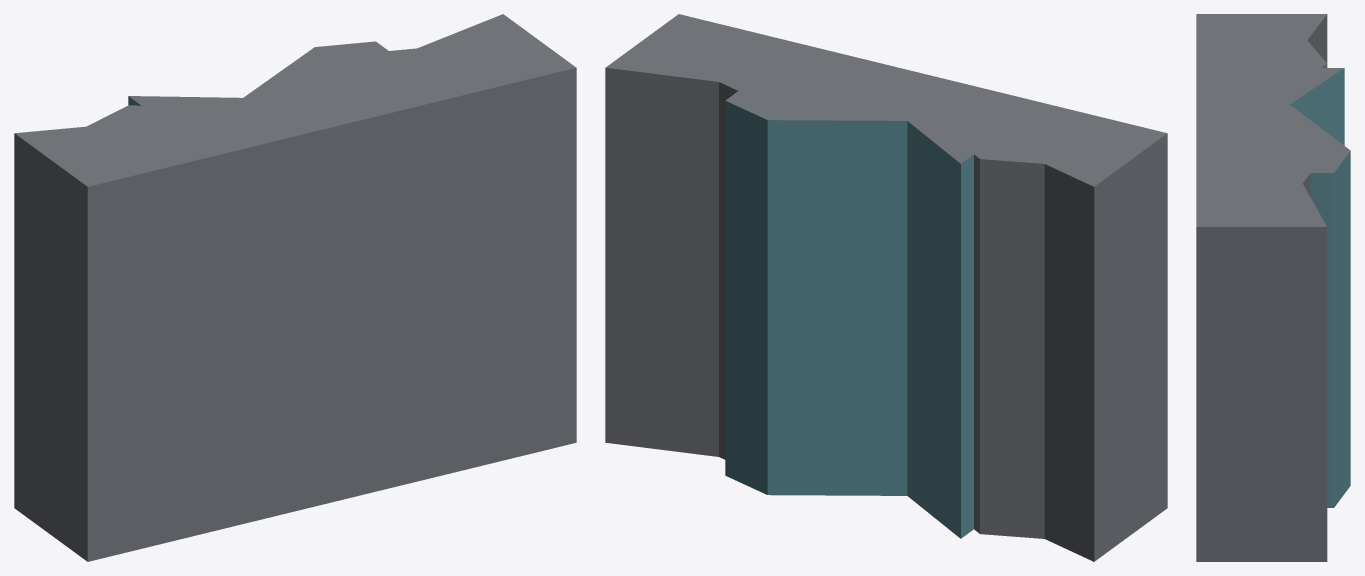
File: Grey_Waterfall_01.obj
3 views of the same model, side by side, from view 1: azimuth 30°, elevation 25°; view 2: azimuth 150°, elevation 25°; view 3: azimuth 270°, elevation 25° (orthographic). The views are drawn at different scales.
Parts seen in each view (by area): view 1: Mesh1_Grey_Waterfall_Model; view 2: Mesh1_Grey_Waterfall_Model; view 3: Mesh1_Grey_Waterfall_Model.
Boxes of the visible parts, x1=… form: Mesh1_Grey_Waterfall_Model: x1=14, y1=14, x2=576, y2=561; Mesh1_Grey_Waterfall_Model: x1=605, y1=14, x2=1167, y2=561; Mesh1_Grey_Waterfall_Model: x1=1196, y1=14, x2=1350, y2=561.
Bounding box in the file's own units: 3 × 2.2 × 0.92.
